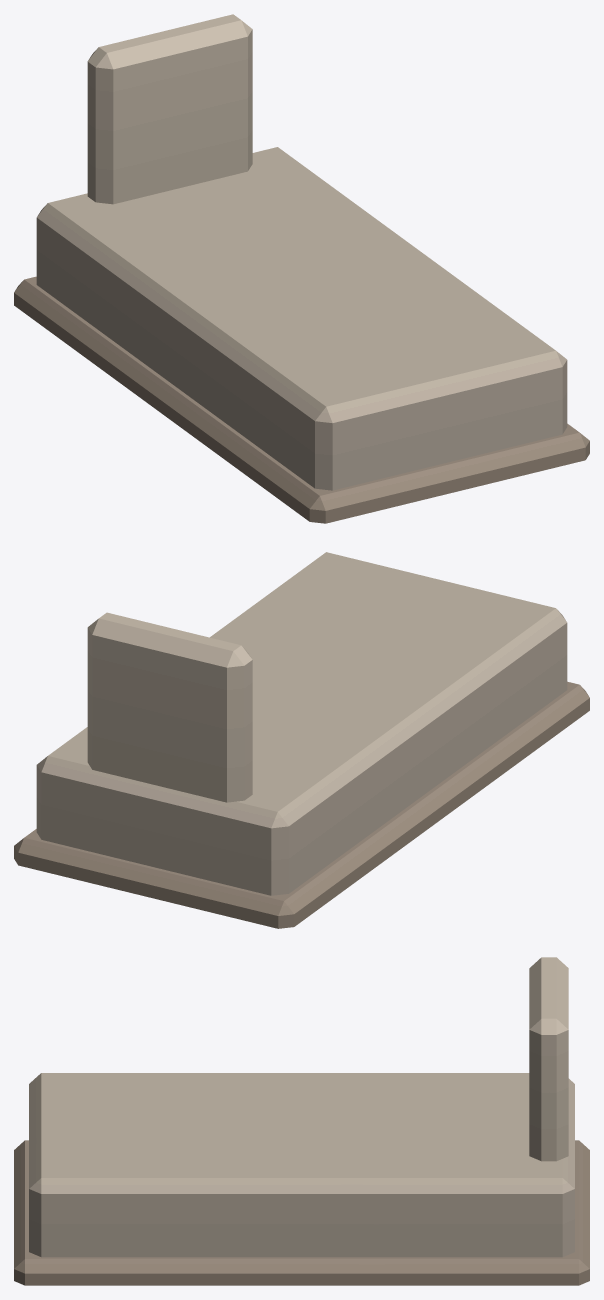
The model's file is headstone_6.glb.
3 renders of one model, top to bottom at view 1: azimuth 30°, elevation 25°; view 2: azimuth 150°, elevation 25°; view 3: azimuth 270°, elevation 25°, orthographic. The views are drawn at different scales.
Parts seen in each view (by area): view 1: headstone_6; view 2: headstone_6; view 3: headstone_6.
Part boxes in pixels (x1,y1,x2,y2): headstone_6: (14,14,589,523); headstone_6: (14,552,589,928); headstone_6: (14,957,589,1285).
Size of the model in its own units: 1 by 0.85 by 1.9.
Materials: 1 (1 with a texture image).
